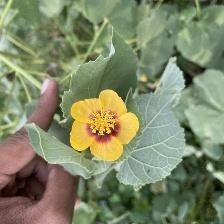indian mallow: (69, 91, 140, 161)
